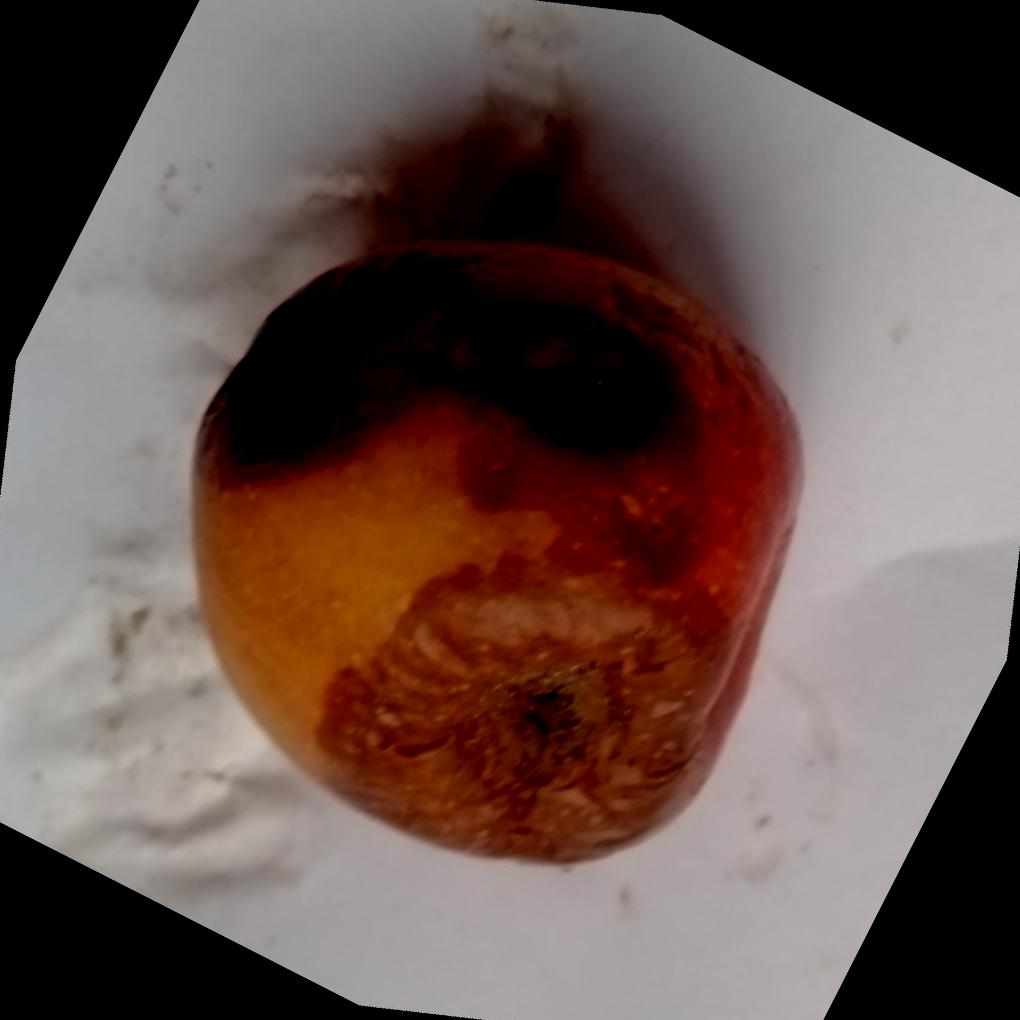FreshOrange: (184, 230, 804, 866)
